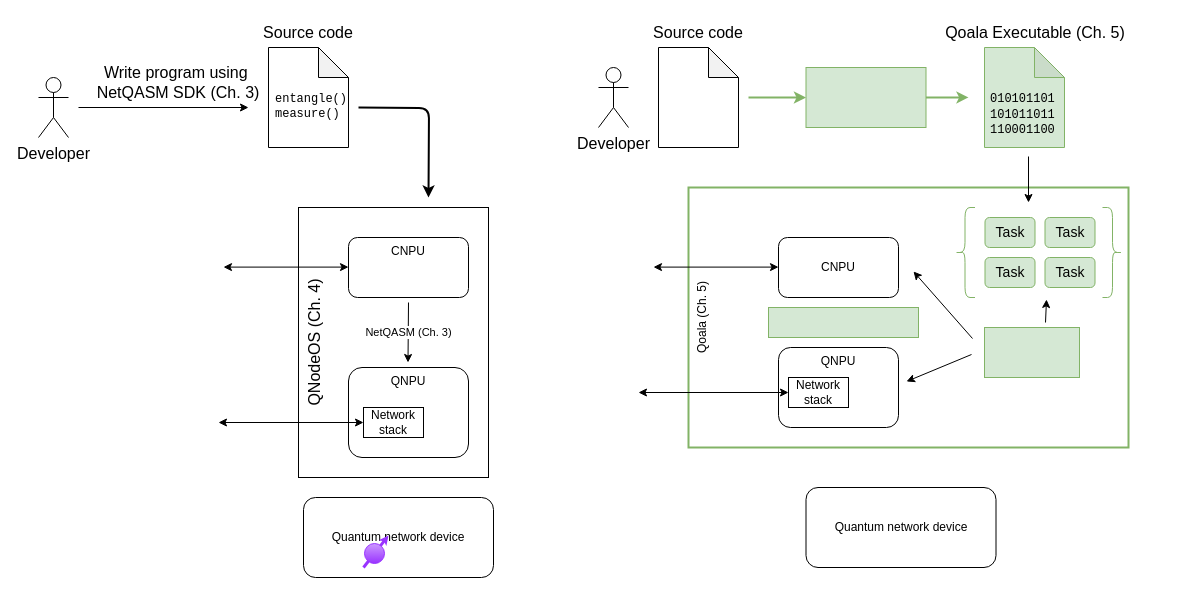
Image size: 1189x595. Some labels were removed from this diagram. The centre of each missing label's shape, as x and y in pixels:
"Qoala Compiler (Ch. 6)" belongs at point (865, 97).
"Scheduler" belongs at point (1032, 352).
"Shared Memory" belongs at point (843, 322).
